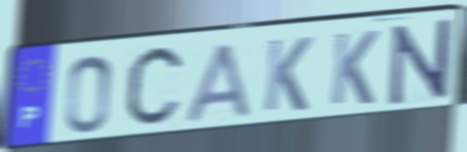0: (63, 52, 114, 136)
A: (183, 40, 253, 125)
C: (121, 41, 188, 135)
K: (327, 28, 381, 109), (261, 35, 315, 115)
N: (388, 16, 453, 109)
